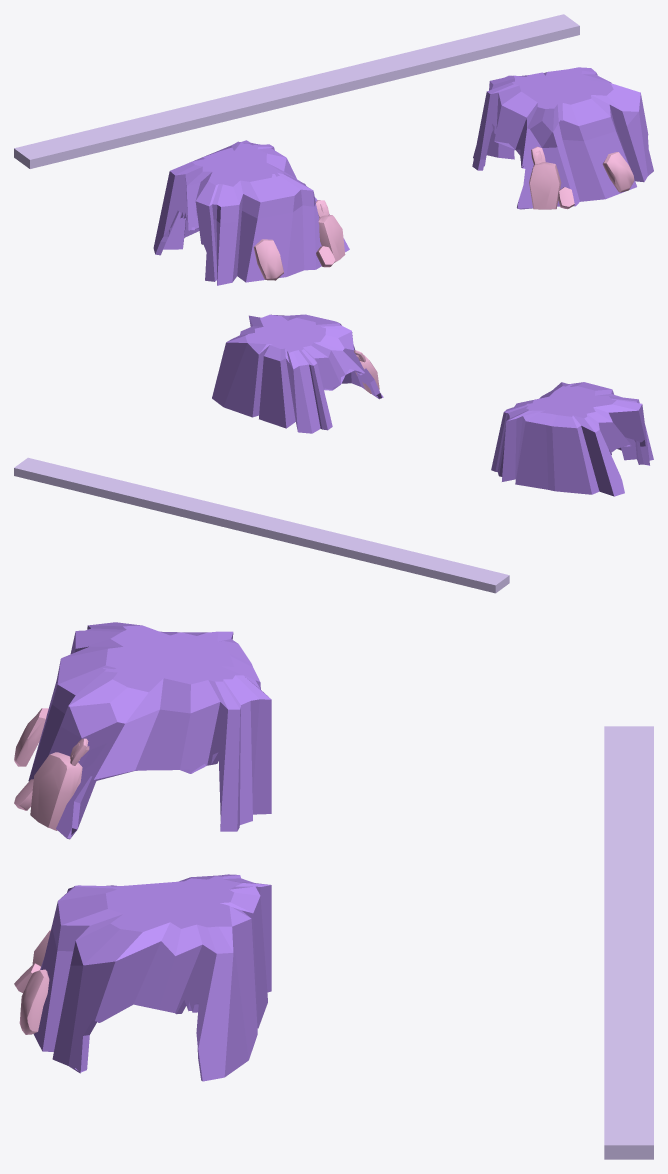
The model's file is 가림막 5수정.fbx.
3 renders of one model, top to bottom at view 1: azimuth 30°, elevation 25°; view 2: azimuth 150°, elevation 25°; view 3: azimuth 270°, elevation 25°, orthographic. The views are drawn at different scales.
Parts seen in each view (by area): view 1: Cube.006, Cube.029; view 2: Cube.006, Cube.029; view 3: Cube.006, Cube.029.
Boxes of the visible parts, x1=… form: Cube.006: x1=153, y1=67, x2=653, y2=285; Cube.029: x1=14, y1=14, x2=579, y2=168; Cube.006: x1=212, y1=314, x2=653, y2=496; Cube.029: x1=14, y1=457, x2=509, y2=593; Cube.006: x1=14, y1=622, x2=271, y2=1081; Cube.029: x1=604, y1=726, x2=653, y2=1159.
Bounding box in the file's own units: 2568 × 393 × 1647.
